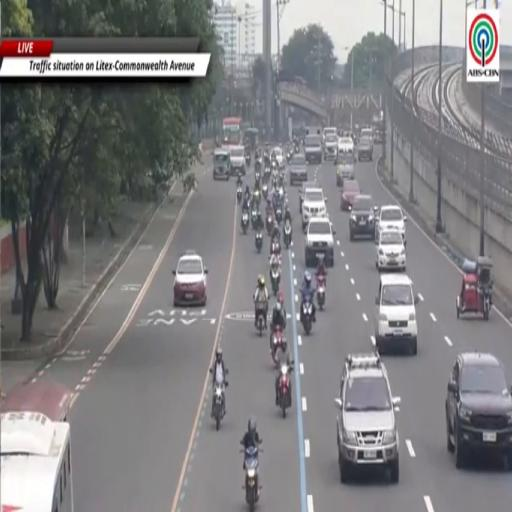bus: (0, 381, 73, 511), (0, 380, 73, 422), (222, 118, 242, 146)
car: (336, 354, 400, 483), (446, 352, 511, 470), (375, 274, 419, 355), (173, 250, 208, 307), (305, 217, 335, 267), (349, 195, 376, 241), (376, 205, 407, 245), (376, 231, 406, 270), (302, 186, 326, 231), (288, 154, 308, 186), (341, 180, 360, 211), (299, 182, 317, 214), (304, 134, 323, 164), (213, 149, 230, 180), (230, 146, 245, 175), (324, 133, 338, 161), (358, 138, 372, 162), (322, 127, 336, 145), (273, 147, 284, 168), (360, 128, 373, 140)
motorcycle: (240, 446, 262, 511), (212, 382, 227, 430), (279, 364, 291, 418), (271, 326, 287, 364), (301, 299, 312, 334), (316, 275, 326, 310), (271, 263, 280, 296), (256, 313, 266, 337), (283, 220, 291, 250), (271, 238, 281, 259), (255, 231, 263, 252), (242, 212, 249, 234), (278, 179, 285, 200), (266, 215, 273, 235), (252, 208, 257, 229), (262, 183, 268, 200), (254, 190, 260, 206), (276, 207, 282, 223), (243, 198, 250, 211), (264, 167, 270, 182), (237, 187, 242, 204), (287, 151, 293, 163), (255, 170, 260, 182), (245, 155, 250, 167), (295, 143, 299, 153)
tricycle: (456, 256, 492, 319)
